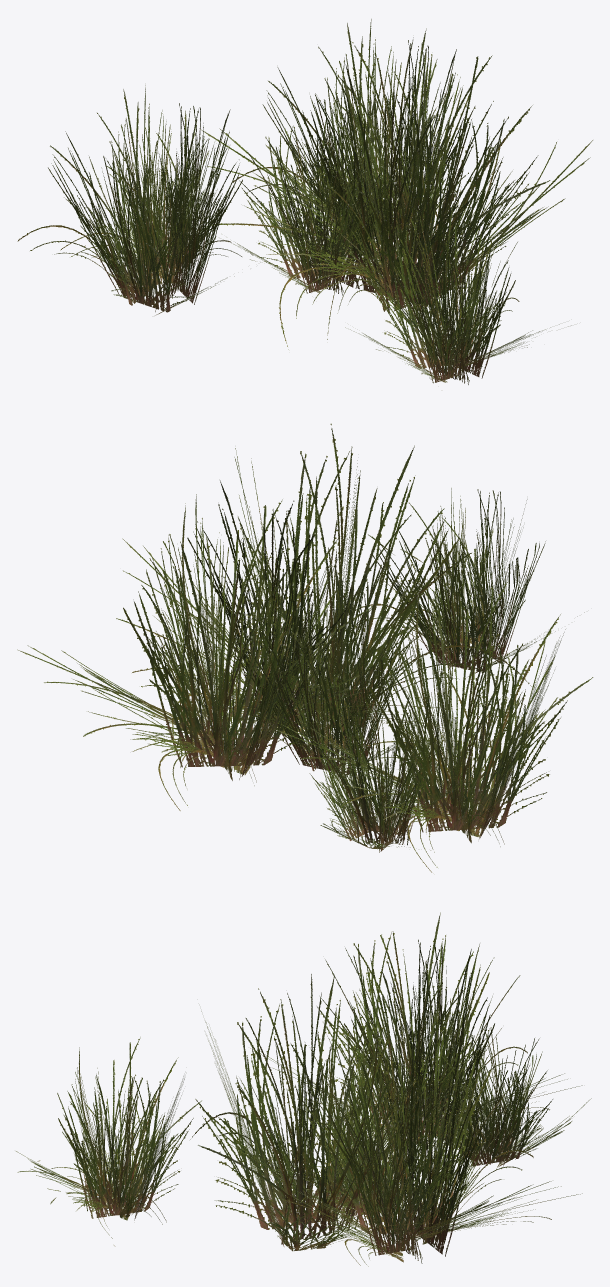
File: Grass5.fbx
3 renders of one model, top to bottom at view 1: azimuth 30°, elevation 25°; view 2: azimuth 150°, elevation 25°; view 3: azimuth 270°, elevation 25°, orthographic. The views are drawn at different scales.
Parts seen in each view (by area): view 1: LV_E07_Foliage_Grass_SM_KJS; view 2: LV_E07_Foliage_Grass_SM_KJS; view 3: LV_E07_Foliage_Grass_SM_KJS.
Boxes of the visible parts, x1,y1,x2,y2 form: LV_E07_Foliage_Grass_SM_KJS: (17,19,592,384); LV_E07_Foliage_Grass_SM_KJS: (17,423,593,872); LV_E07_Foliage_Grass_SM_KJS: (16,912,591,1266).
Bounding box in the file's own units: 0.4982 × 0.2581 × 0.5336.
1 material, 1 textured.
